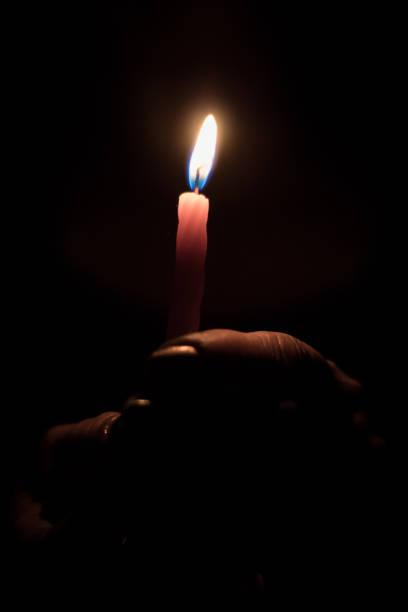Fire: (187, 100, 232, 192)
